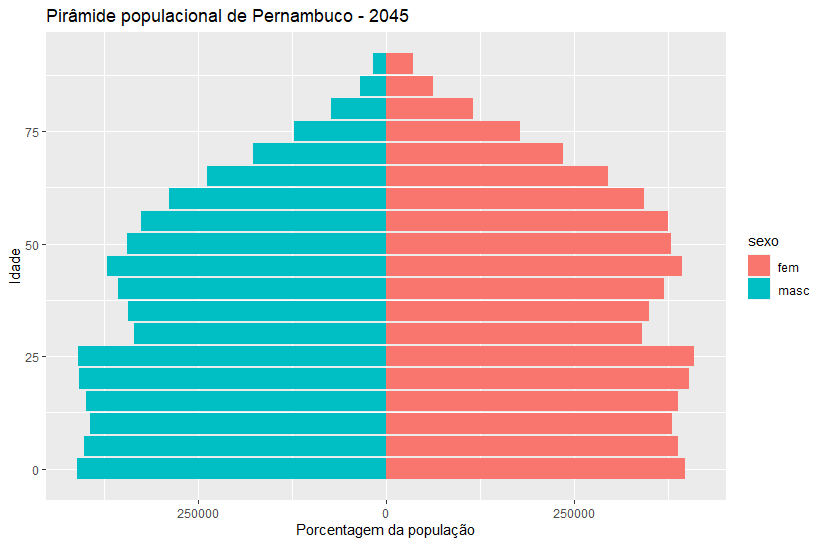

The dashboard page shown, as its layout file describes it:
{"tool":"powerbi","page":{"name":"Página 2","canvas":[1280,720],"ordinal":1},"visuals":[{"type":"clusteredBarChart","fields":{"Category":["Sheet 1.Idade"],"Y":["Sum(Sheet 1.Ecuador)","Sum(Sheet 1.Togo)","Sum(Sheet 1.Greece)"]},"box":[184.2,91.2,990.1,550.1],"z":0},{"type":"textbox","box":[576.9,59.9,205.7,31.3],"z":1}]}

Visuals, with their boxes on the page's 1280x720 design canvas (x1, y1, x2, y2). These are canvas units, not pixel positions in the 824x545 screenshot, which may show the page scaled, cropped or inside an application window:
clusteredBarChart - Sheet 1.Idade x Sum(Sheet 1.Ecuador): BBox(184, 91, 1174, 641)
textbox: BBox(577, 60, 783, 91)
